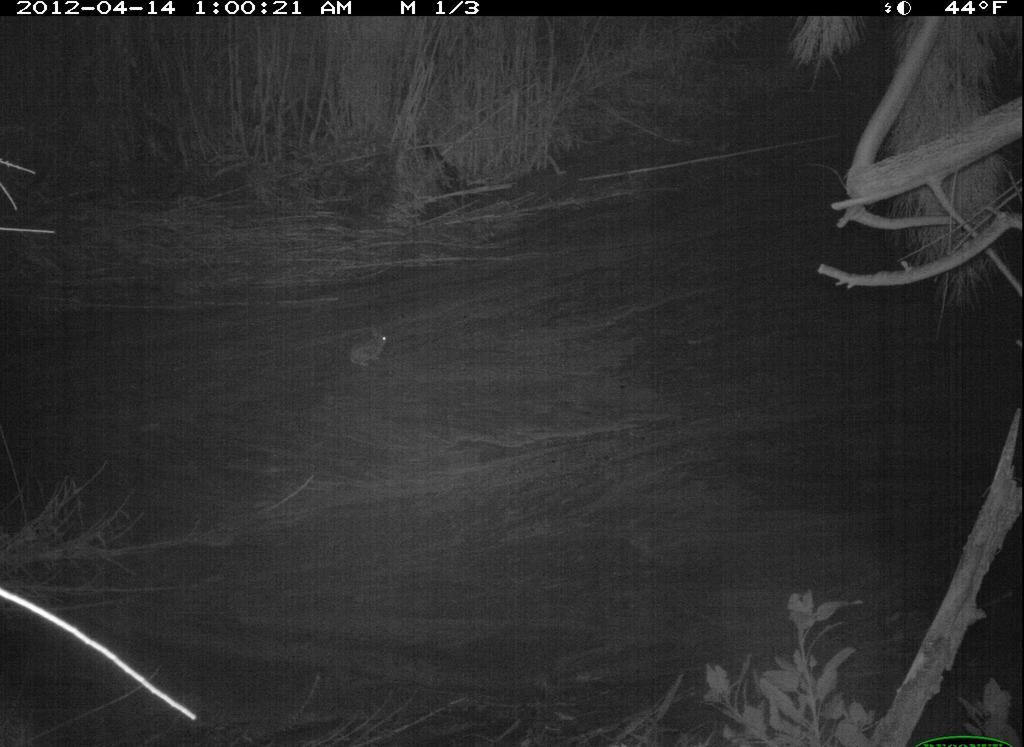rabbit: (341, 315, 404, 382)
